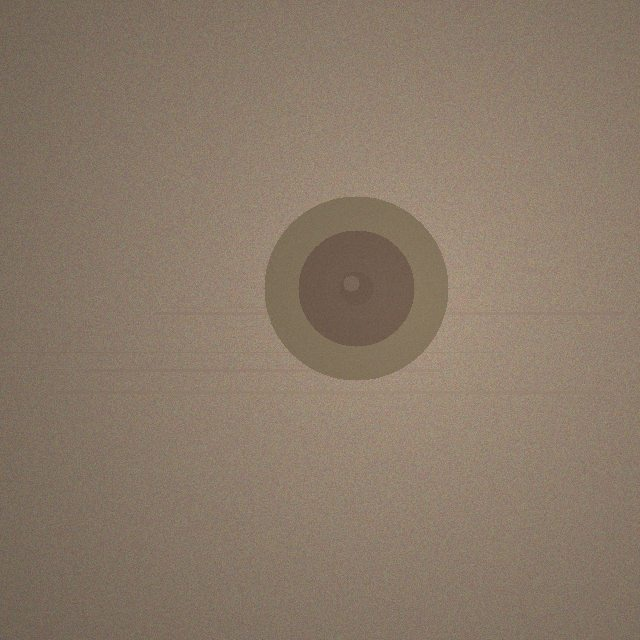good: (264, 196, 448, 380)
